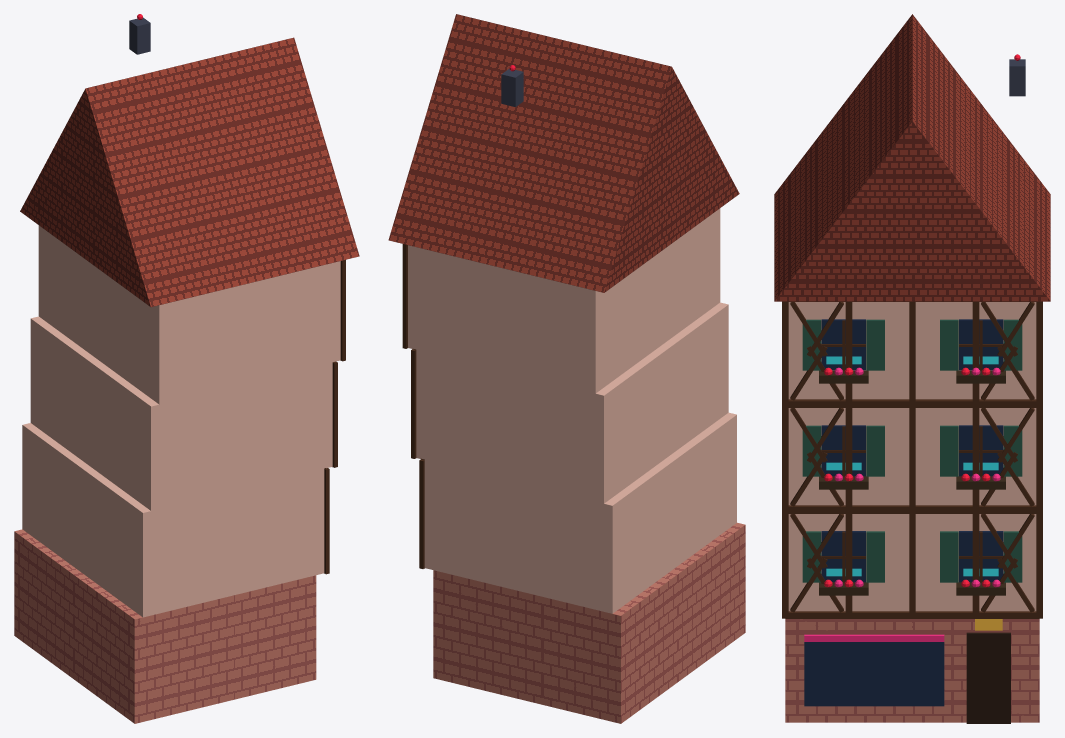
The model's file is pf_maison_b.glb.
The picture shows the model from 3 angles, left to right: view 1: azimuth 30°, elevation 25°; view 2: azimuth 150°, elevation 25°; view 3: azimuth 270°, elevation 25°; orthographic projection. The views are drawn at different scales.
Visible parts, largest first — view 1: p_prism.010, p_box.1111, p_box.1106, p_box.1141, p_box.1171, p_box.1204, p_box.1114, p_box.1144, p_box.1174; view 2: p_prism.010, p_box.1111, p_box.1106, p_box.1141, p_box.1171, p_box.1204, p_box.1118, p_box.1148, p_box.1178; view 3: p_prism.010, p_box.1171, p_box.1141, p_box.1111, p_box.1106, p_box.1107, p_box.1109, p_box.1172, p_box.1112, p_box.1142, p_box.1187, p_box.1194 (+39 smaller).
Boxes of the visible parts, x1,y1,x2,y2 form: p_prism.010: [20, 37, 359, 307]; p_box.1111: [22, 423, 324, 617]; p_box.1106: [14, 529, 316, 723]; p_box.1141: [30, 316, 332, 510]; p_box.1171: [38, 225, 340, 404]; p_box.1204: [129, 17, 150, 54]; p_box.1114: [324, 468, 329, 574]; p_box.1144: [332, 361, 337, 467]; p_box.1174: [340, 260, 345, 361]; p_prism.010: [388, 14, 739, 292]; p_box.1111: [424, 412, 736, 613]; p_box.1106: [433, 522, 745, 723]; p_box.1141: [416, 302, 728, 503]; p_box.1171: [408, 208, 720, 393]; p_box.1204: [501, 68, 523, 106]; p_box.1118: [419, 459, 424, 568]; p_box.1148: [411, 349, 416, 458]; p_box.1178: [402, 244, 407, 348]; p_prism.010: [774, 14, 1050, 301]; p_box.1171: [788, 302, 1036, 399]; p_box.1141: [788, 408, 1036, 505]; p_box.1111: [788, 514, 1036, 611]; p_box.1106: [785, 619, 1039, 722]; p_box.1107: [804, 642, 944, 706]; p_box.1109: [966, 632, 1010, 723]; p_box.1172: [785, 399, 1039, 407]; p_box.1112: [785, 611, 1039, 618]; p_box.1142: [785, 505, 1039, 512]; p_box.1187: [821, 319, 865, 370]; p_box.1194: [959, 319, 1003, 370].
Bounding box in the file's own units: 4.84 × 12.66 × 5.
Materials: 13 (2 with a texture image).
